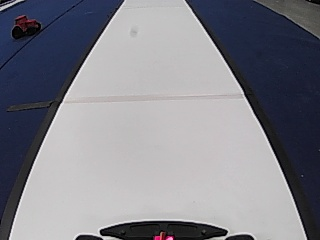tractor: (10, 14, 41, 38)
